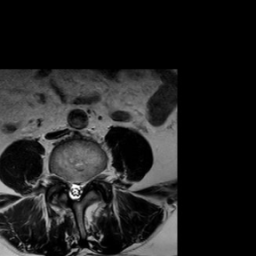CCS_normal: (72, 174, 78, 206)
LFS_stenosis: (84, 169, 91, 192)
LLS_normal: (78, 174, 84, 201)
RFS_stenosis: (59, 168, 66, 190)
RLS_normal: (66, 172, 72, 201)
